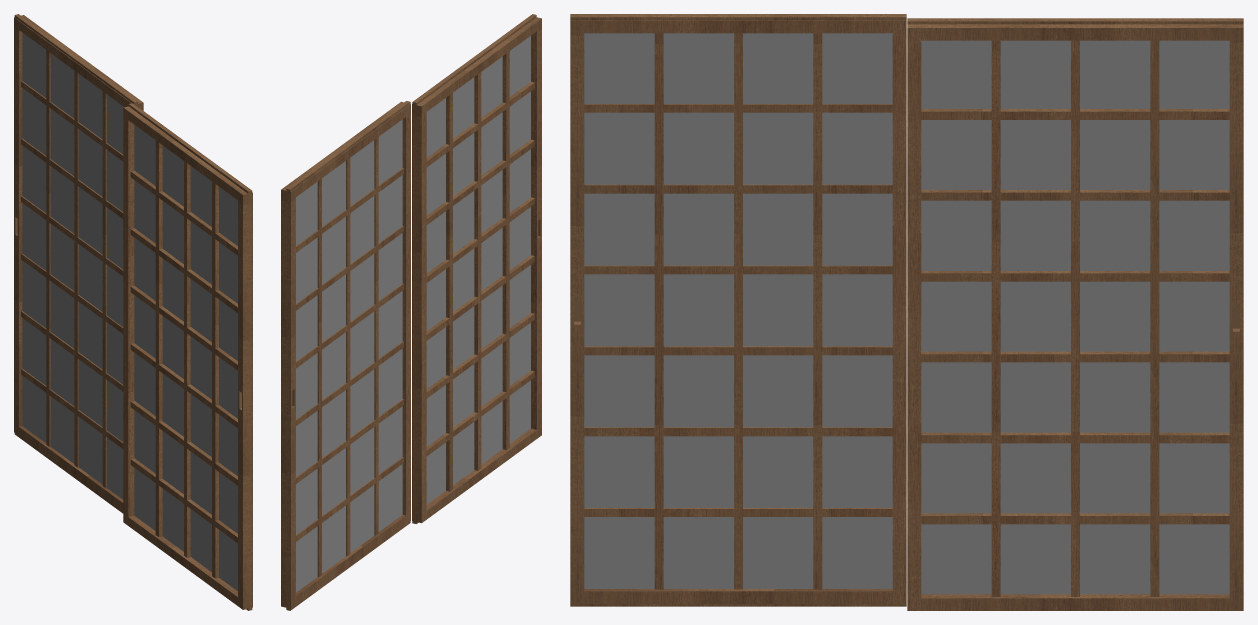
Rendered from Doors 2.FBX.
3 renders of one model, left to right at view 1: azimuth 30°, elevation 25°; view 2: azimuth 150°, elevation 25°; view 3: azimuth 270°, elevation 25°, orthographic. The views are drawn at different scales.
Parts seen in each view (by area): view 1: door 002, door 1; view 2: door 1, door 002; view 3: door 1, door 002.
Part boxes in pixels (box(x1,y1,x2,y2)): door 002: box(123, 103, 252, 610); door 1: box(14, 14, 143, 513); door 1: box(281, 101, 410, 610); door 002: box(412, 14, 541, 523); door 1: box(907, 18, 1243, 610); door 002: box(570, 14, 906, 606).
Bounding box in the file's own units: 9.53 × 189 × 195.
2 materials, 1 textured.
